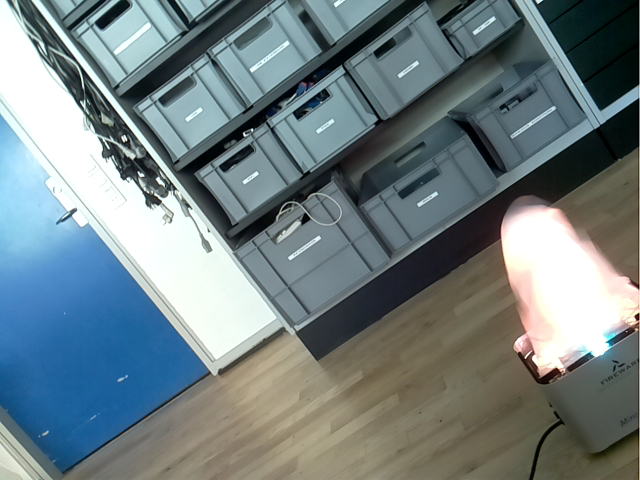fire: (500, 195, 640, 378)
